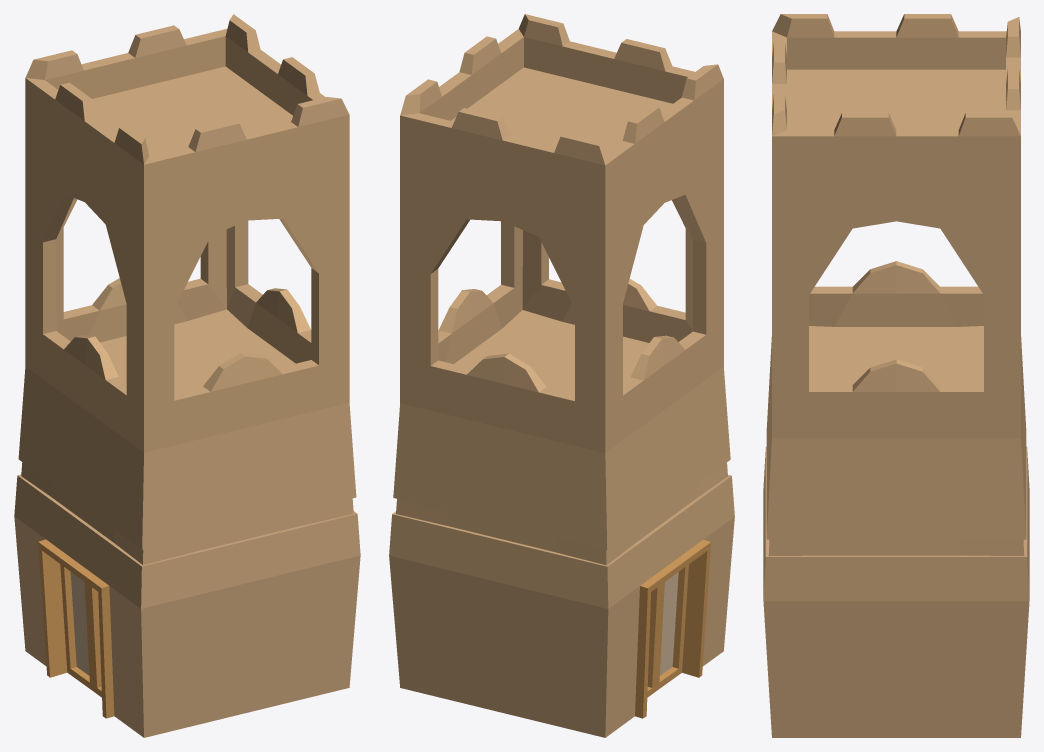
Rendered from Building06.fbx.
The picture shows the model from 3 angles, left to right: view 1: azimuth 30°, elevation 25°; view 2: azimuth 150°, elevation 25°; view 3: azimuth 270°, elevation 25°; orthographic projection. The views are drawn at different scales.
Parts seen in each view (by area): view 1: Building06; view 2: Building06; view 3: Building06.
Boxes of the visible parts, box(x1,y1,x2,y2) form: Building06: box(14, 14, 360, 737); Building06: box(389, 14, 734, 737); Building06: box(763, 14, 1029, 737).
Size of the model in its own units: 3.55 by 3.42 by 8.81.
